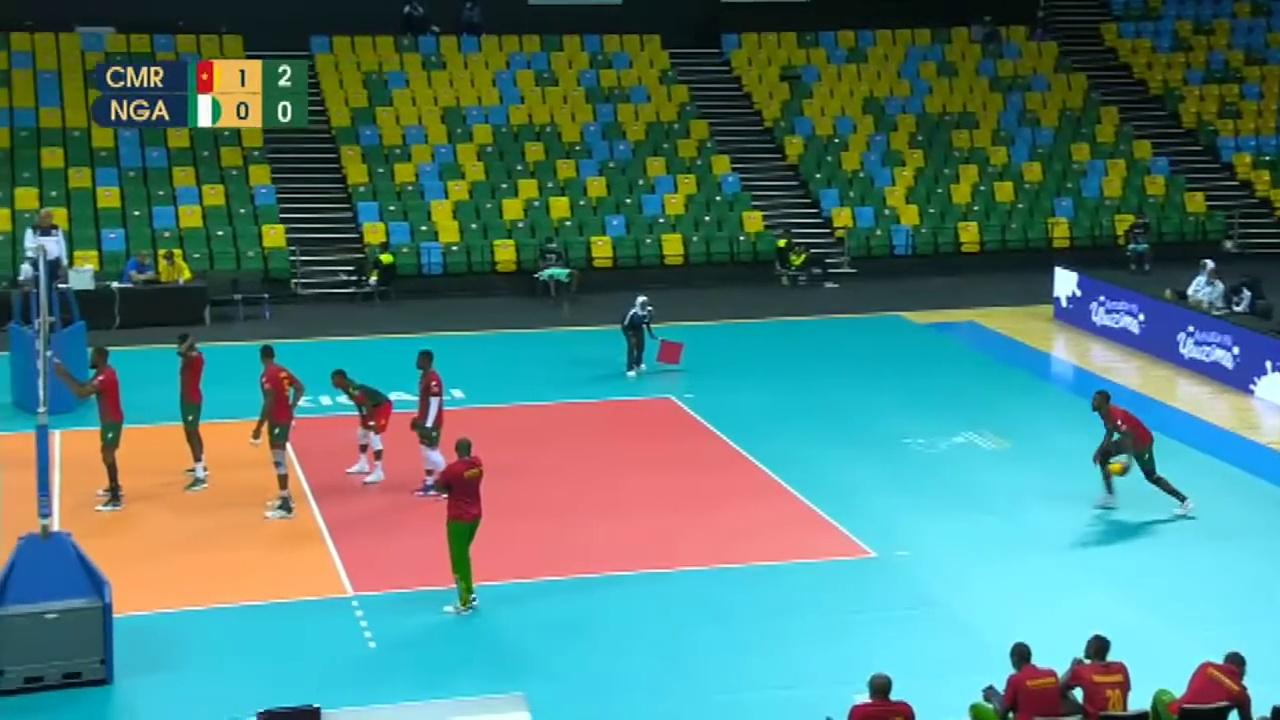player: (1091, 391, 1195, 514), (250, 347, 312, 518), (70, 340, 126, 517), (167, 329, 221, 497), (333, 367, 395, 483), (410, 353, 455, 490)
refree: (18, 205, 78, 319), (620, 294, 655, 380)
